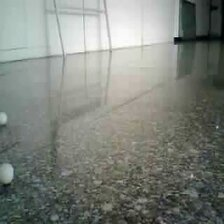tennis: (2, 129, 32, 168), (77, 82, 93, 104)
